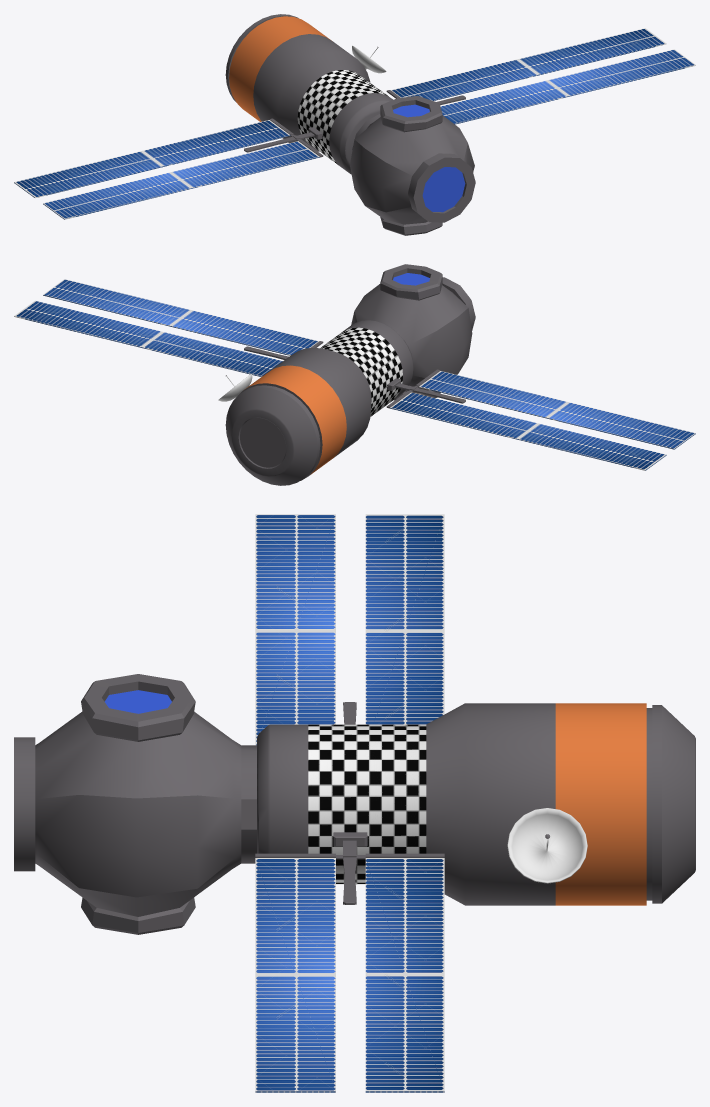
File: satellite (3).glb
3 views of the same model, one above another, from view 1: azimuth 30°, elevation 25°; view 2: azimuth 150°, elevation 25°; view 3: azimuth 270°, elevation 25° (orthographic). The views are drawn at different scales.
Parts seen in each view (by area): view 1: Cube, Cylinder, Sphere, Cube.001; view 2: Cube, Cylinder, Sphere; view 3: Cube, Cylinder, Sphere, Cube.001.
Boxes of the visible parts, bbox=[...] form: Cube: bbox=[14, 28, 695, 219]; Cylinder: bbox=[225, 14, 392, 174]; Sphere: bbox=[350, 96, 475, 235]; Cube.001: bbox=[352, 45, 386, 73]; Cube: bbox=[14, 279, 695, 470]; Cylinder: bbox=[225, 320, 413, 485]; Sphere: bbox=[351, 264, 475, 400]; Cube: bbox=[255, 514, 444, 1092]; Cylinder: bbox=[257, 703, 695, 905]; Sphere: bbox=[14, 674, 256, 934]; Cube.001: bbox=[507, 808, 587, 883].
Bounding box in the file's own units: 17.07 × 2.96 × 8.53.
6 materials, 2 textured.
